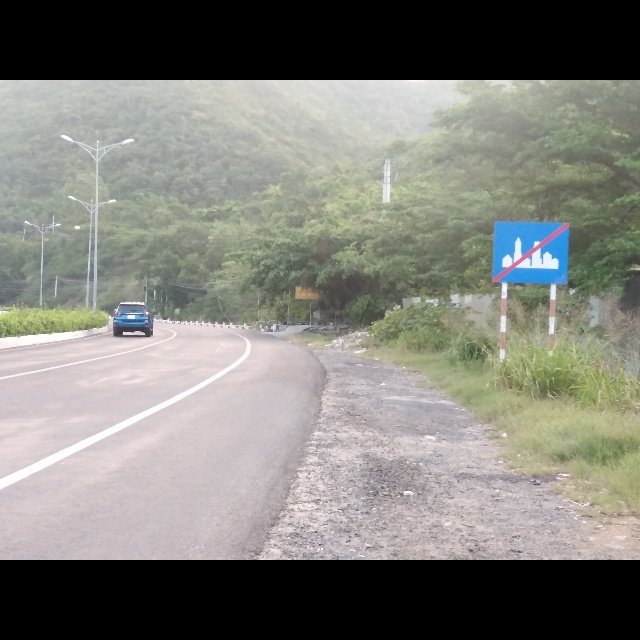Hết khu đông dân cư: (492, 220, 571, 287)
